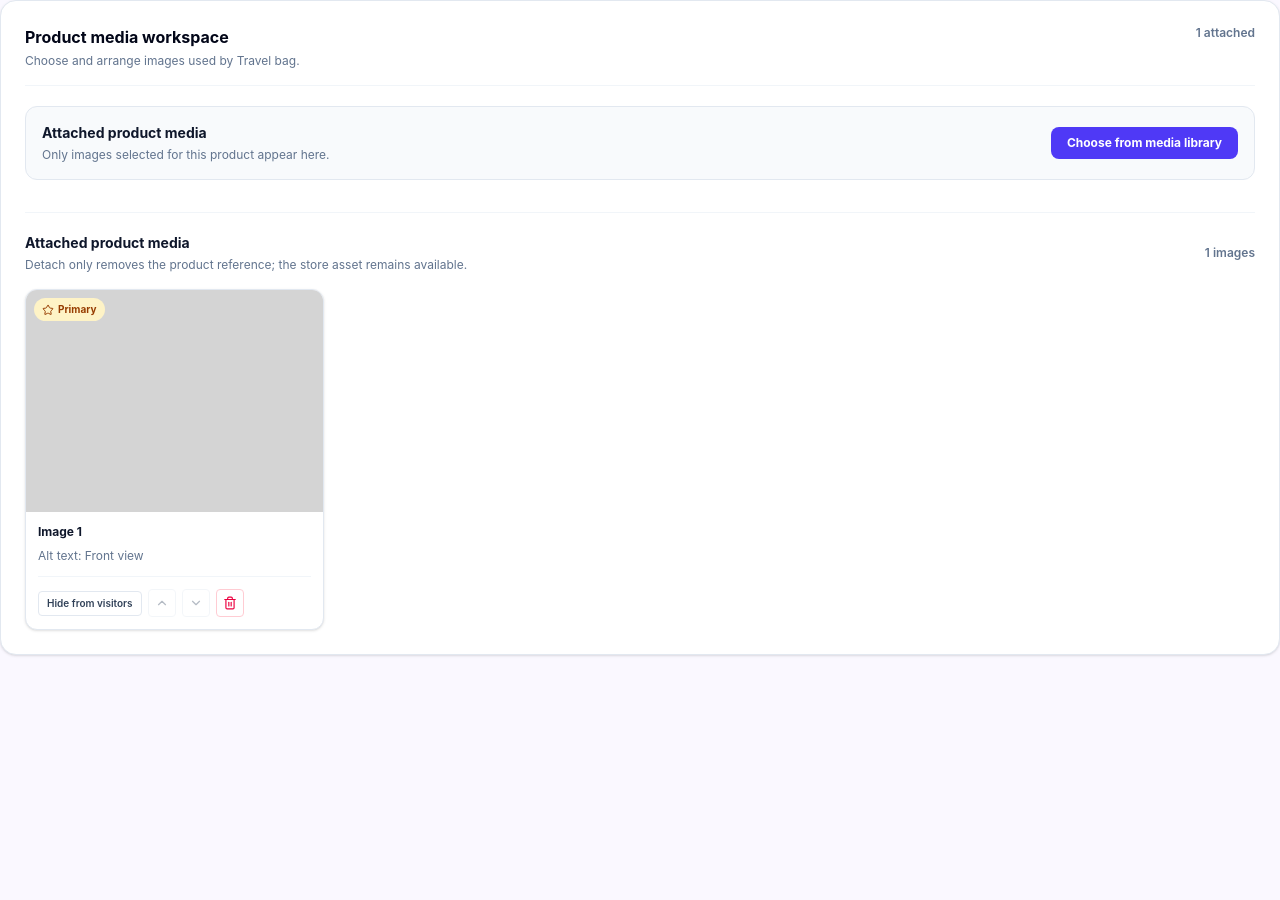
Scenario: ProductMediaWorkspace › detaches a reference without deleting the underlying store asset
Expected: the button "Alt text: Front view" is shown, [38,548,310,564]
Step 1. Click the button named "Detach image 1" → (230, 603), box [216,589,244,617]
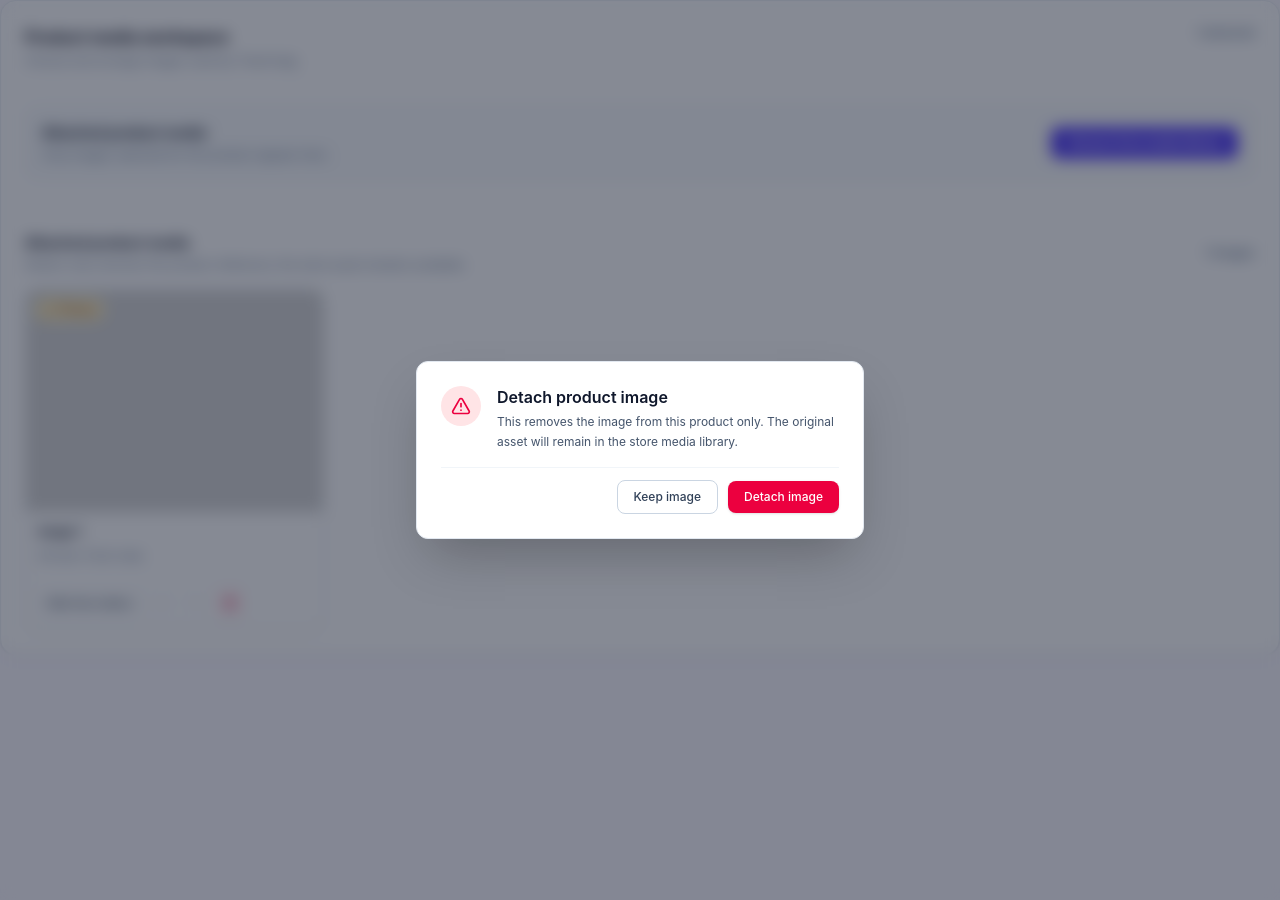
Expected: the dialog is shown
Step 2. Click the button "Detach image" → (784, 497), box [728,481,839,513]
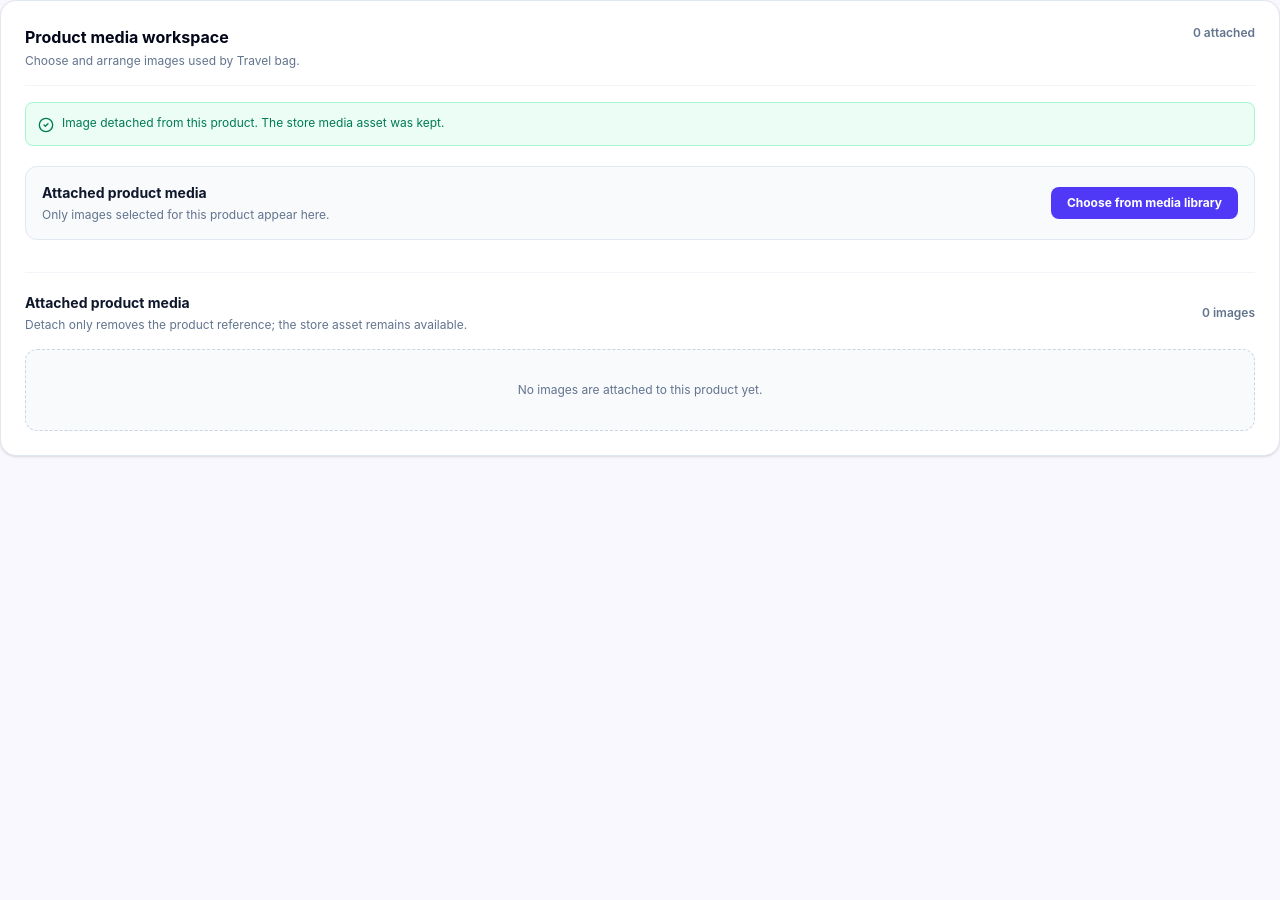
Expected: the text "Image detached from this product. The store media asset was kept." is shown, [62,115,444,131]
